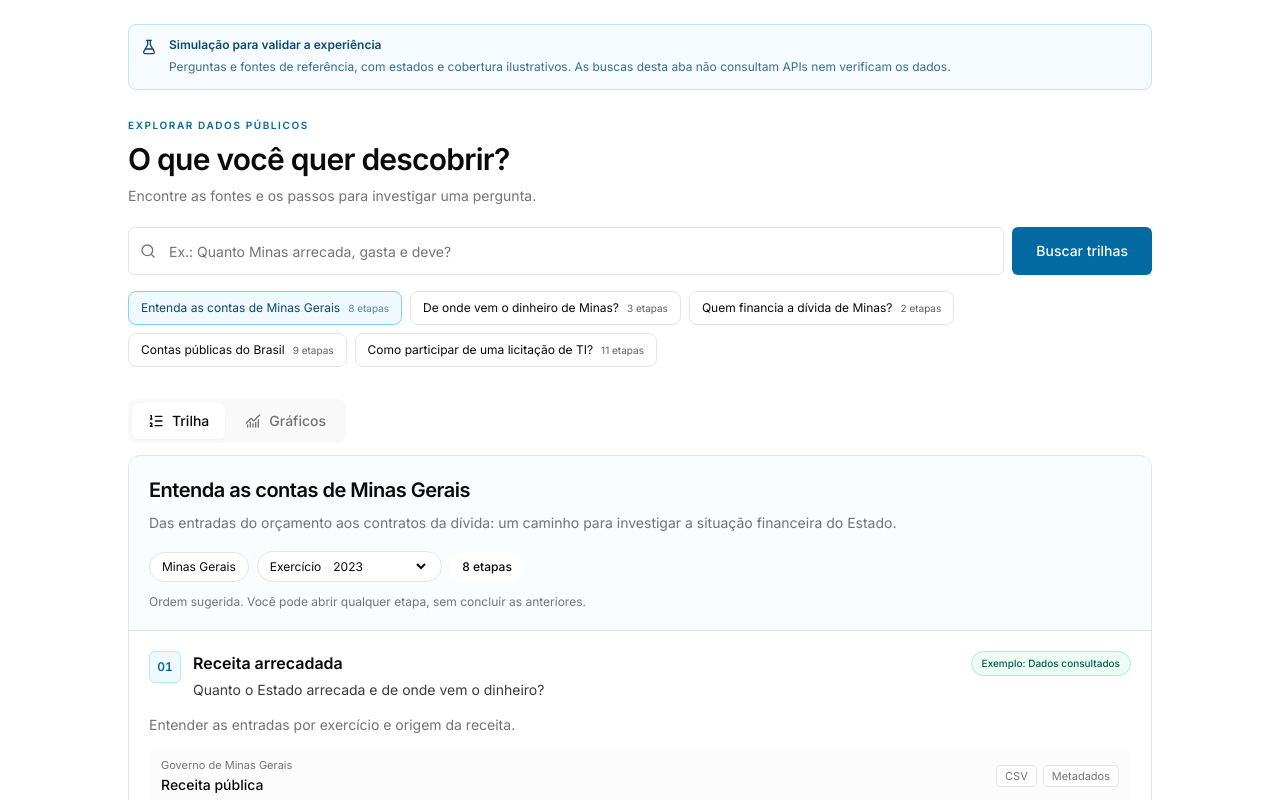
Test: InvestigationTrailDemo › mostra a simulação e muda a quantidade de etapas conforme a investigação
Expected: the text "Simulação para validar a experiência" is shown, [169,37,381,52]
Click the button "De onde vem o dinheiro de Minas?3 etapas".
click(545, 308)  # box [410,291,681,325]
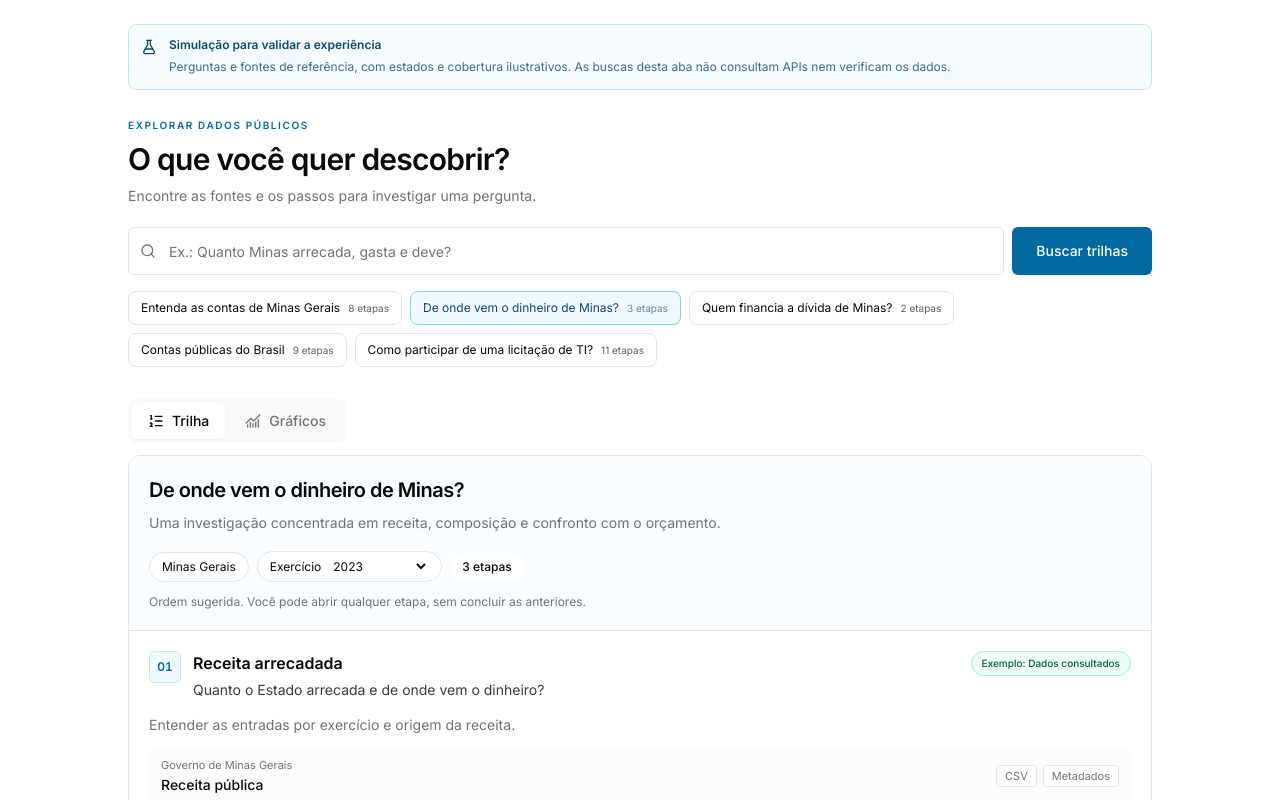
Expected: the text named "Quantidade de etapas" reads "3 etapas", [450,552,524,580]
Click the button "Quem financia a dívida de Minas?2 etapas".
click(822, 308)  # box [689,291,954,325]
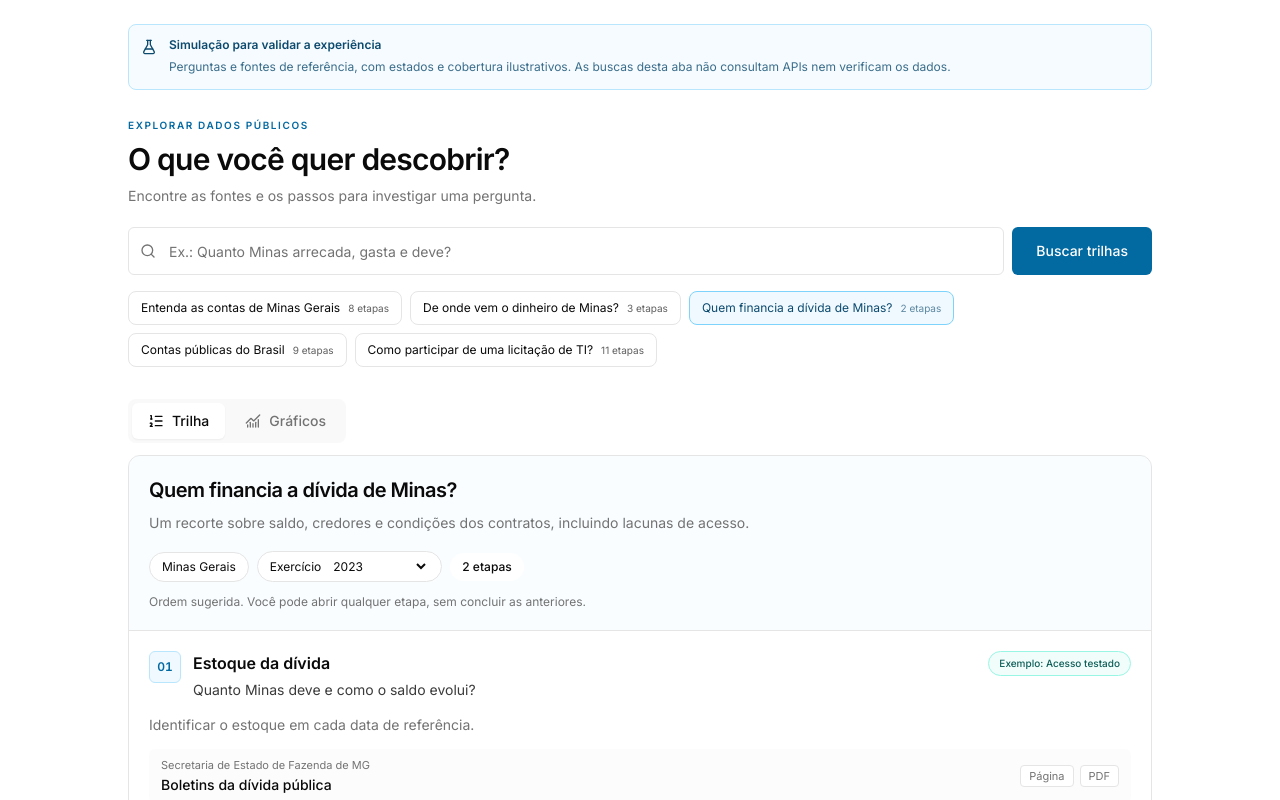
Expected: the text named "Quantidade de etapas" reads "2 etapas", [450,552,524,580]
